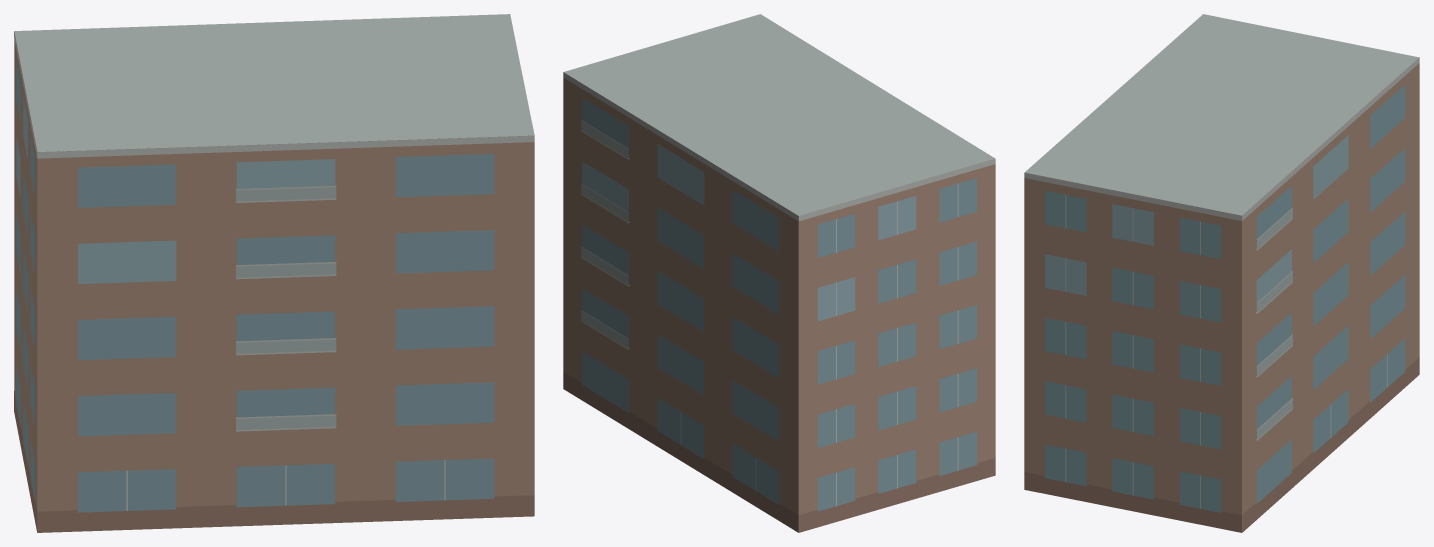
Rendered from survey-upis-32871152.glb.
3 views of the same model, side by side, from view 1: azimuth 30°, elevation 25°; view 2: azimuth 150°, elevation 25°; view 3: azimuth 270°, elevation 25° (orthographic). The views are drawn at different scales.
Visible parts, largest first — view 1: survey-upis-32871152.tmp; view 2: survey-upis-32871152.tmp; view 3: survey-upis-32871152.tmp.
Part boxes in pixels (x1,y1,x2,y2): survey-upis-32871152.tmp: (14, 14, 534, 532); survey-upis-32871152.tmp: (563, 14, 995, 532); survey-upis-32871152.tmp: (1024, 14, 1419, 532).
Size of the model in its own units: 19.44 by 14.25 by 16.1.
